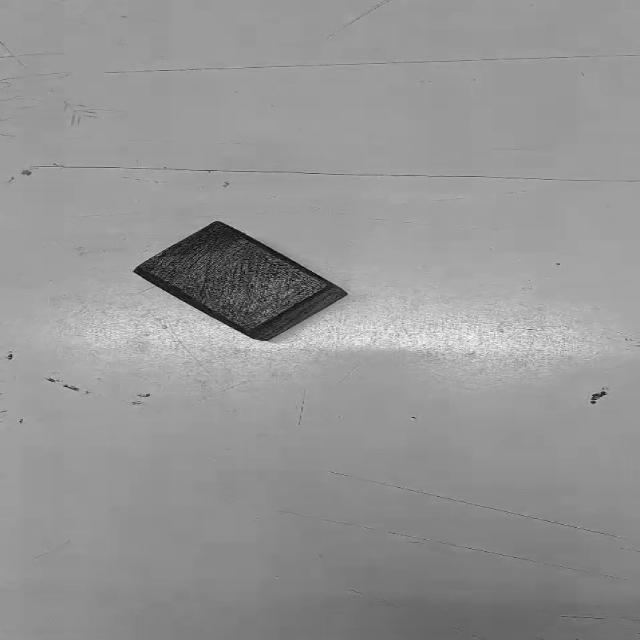bcube: (130, 220, 352, 341)
